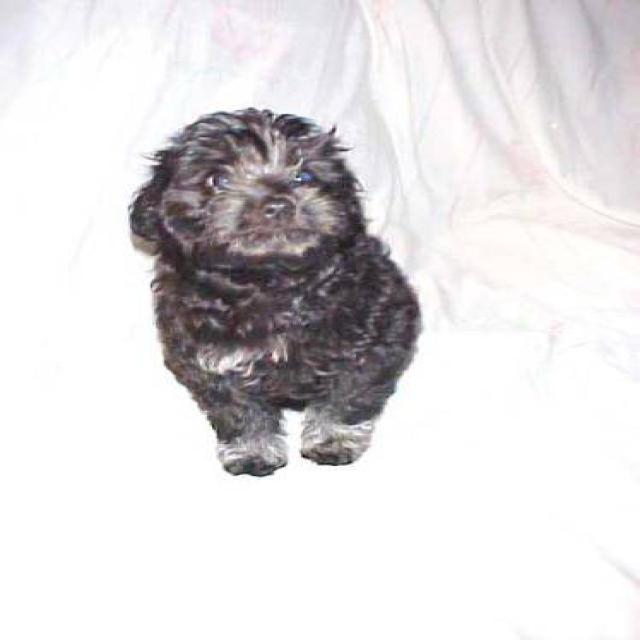dog: (126, 105, 422, 476)
